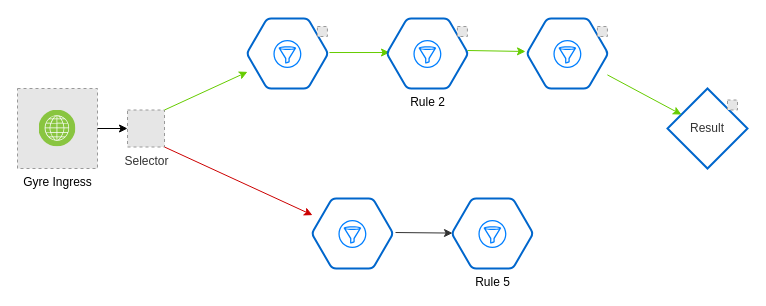
Image size: 766x306. Some labels were removed from this diagram. Grey dashed boxes stand in for pictures. The shapes that lost their labels are listed below. From the top down, each one's box as (x1, y1, x2, y2) in pixels, then its label:
(246, 17, 328, 89): Rule 1
(526, 17, 608, 89): Rule 3
(311, 197, 393, 269): Rule 4
